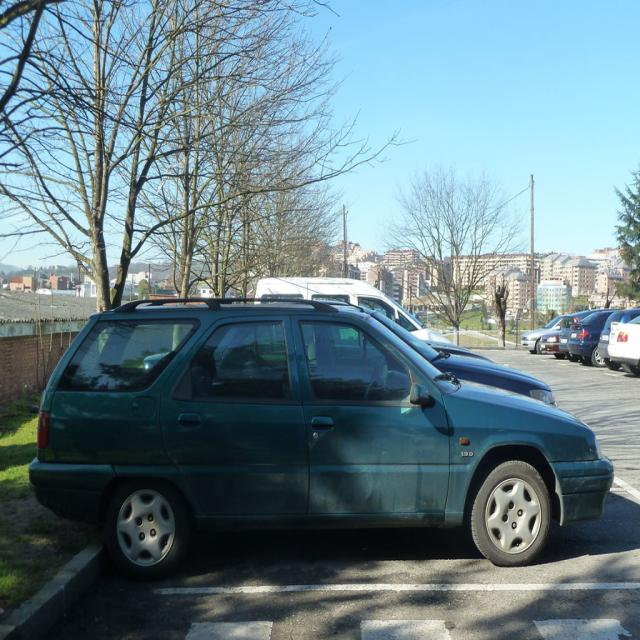car: (24, 294, 614, 568)
